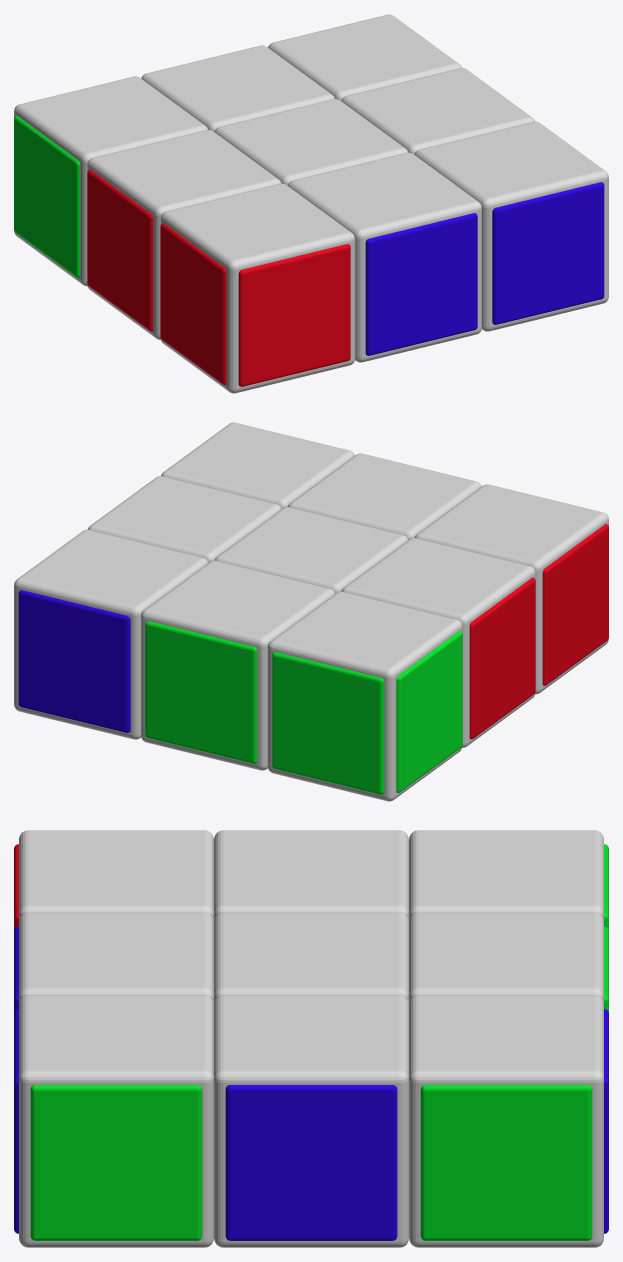
3 views of the same model, one above another, from view 1: azimuth 30°, elevation 25°; view 2: azimuth 150°, elevation 25°; view 3: azimuth 270°, elevation 25° (orthographic). The views are drawn at different scales.
Parts seen in each view (by area): view 1: Color110, Color112, Color111, Cube15p, Cube17p, Cube16p, Cube09p, Cube12p, Cube14p, Cube11p, Cube13p, Cube10p (+3 smaller); view 2: Color210, Color212, Color211, Cube09p, Cube11p, Cube10p, Cube15p, Cube12p, Cube14p, Cube17p, Cube16p, Cube13p (+3 smaller); view 3: Color411, Color410, Color412, Cube14p, Cube11p, Cube17p, Cube12p, Cube09p, Cube15p, Cube16p, Cube10p, Cube13p (+2 smaller).
Part boxes in pixels (left/top/right/bottom): Color110: left=238, top=244, right=350, bottom=386; Color112: left=492, top=182, right=604, bottom=324; Color111: left=365, top=213, right=477, bottom=355; Cube15p: left=160, top=183, right=355, bottom=393; Cube17p: left=414, top=121, right=608, bottom=331; Cube16p: left=287, top=152, right=481, bottom=362; Cube09p: left=14, top=76, right=208, bottom=286; Cube12p: left=87, top=130, right=281, bottom=339; Cube14p: left=341, top=68, right=535, bottom=154; Cube11p: left=268, top=14, right=461, bottom=100; Cube13p: left=214, top=99, right=408, bottom=185; Cube10p: left=141, top=45, right=335, bottom=131; Color210: left=18, top=590, right=130, bottom=732; Color212: left=272, top=652, right=384, bottom=794; Color211: left=145, top=621, right=257, bottom=763; Cube09p: left=267, top=591, right=462, bottom=801; Cube11p: left=14, top=529, right=208, bottom=739; Cube10p: left=141, top=560, right=335, bottom=770; Cube15p: left=414, top=484, right=608, bottom=694; Cube12p: left=341, top=538, right=535, bottom=747; Cube14p: left=87, top=476, right=281, bottom=562; Cube17p: left=161, top=422, right=354, bottom=508; Cube16p: left=287, top=453, right=481, bottom=539; Cube13p: left=214, top=507, right=408, bottom=593; Color411: left=225, top=1085, right=397, bottom=1240; Color410: left=30, top=1085, right=202, bottom=1240; Color412: left=420, top=1085, right=592, bottom=1240; Cube14p: left=214, top=995, right=408, bottom=1247; Cube11p: left=409, top=995, right=603, bottom=1247; Cube17p: left=19, top=995, right=213, bottom=1247; Cube12p: left=214, top=830, right=408, bottom=920; Cube09p: left=409, top=830, right=603, bottom=921; Cube15p: left=19, top=830, right=213, bottom=921; Cube16p: left=19, top=912, right=213, bottom=1003; Cube10p: left=409, top=912, right=603, bottom=1003; Cube13p: left=214, top=912, right=408, bottom=1003.
Bounding box in the file's own units: 3.05 × 1 × 3.05.
